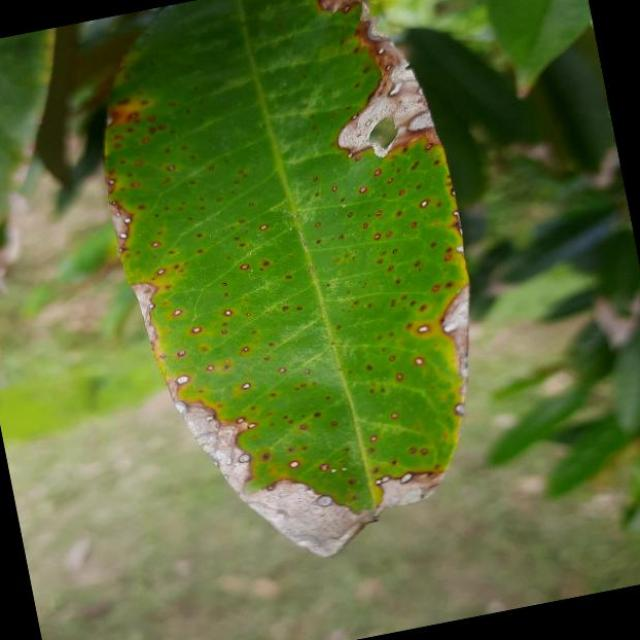Leaf Spot: (60, 1, 532, 590)
